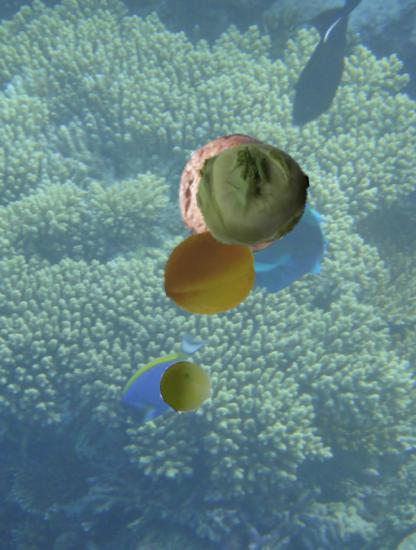Grape: (159, 360, 212, 413)
Kohlrabi: (196, 137, 310, 251)
Peach: (162, 226, 257, 321)
Walnut: (175, 134, 299, 258)
